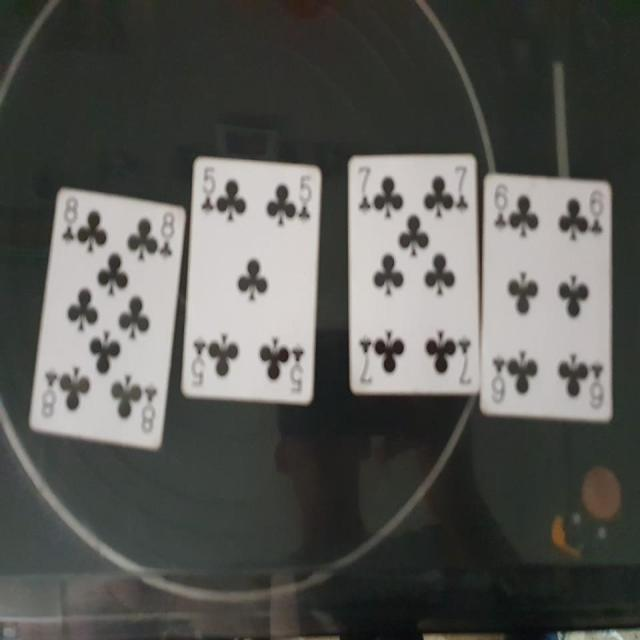5 Trefoils: (179, 152, 323, 407)
6 Trefoils: (478, 170, 614, 423)
7 Trefoils: (344, 150, 481, 395)
8 Trefoils: (29, 188, 187, 448)
